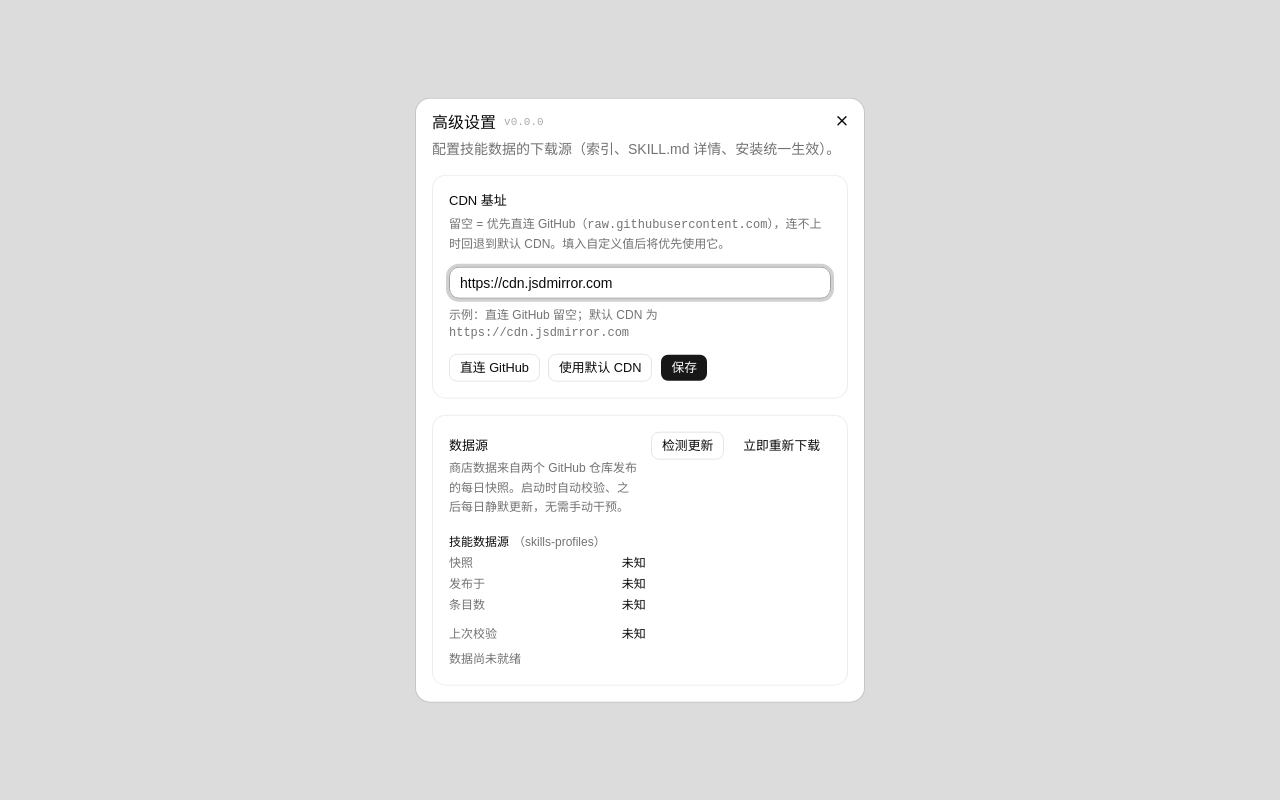
AdvancedSettingsDialog › reports a updated manual check
Click the button "检测更新". click: (688, 446)
box: left=651, top=432, right=724, bottom=460
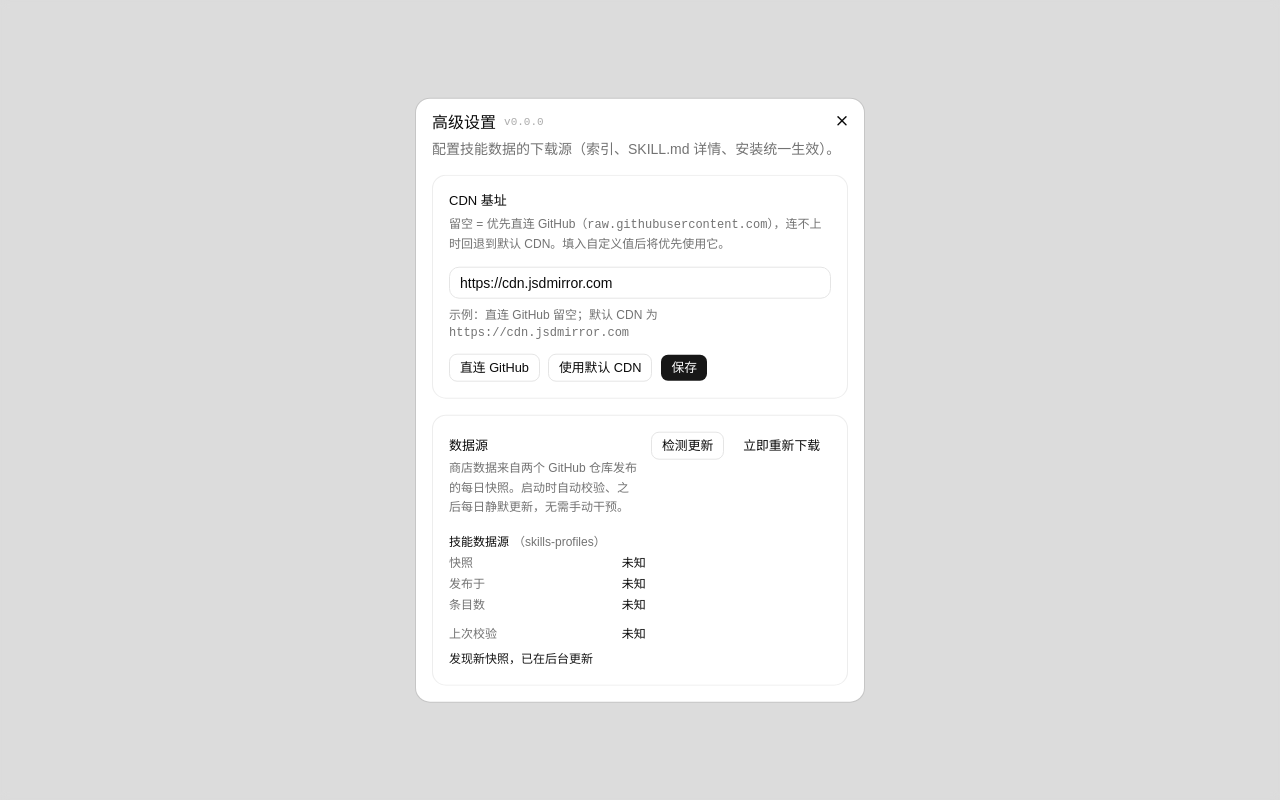
Expected: the text "发现新快照，已在后台更新" is shown, left=449, top=652, right=593, bottom=666
